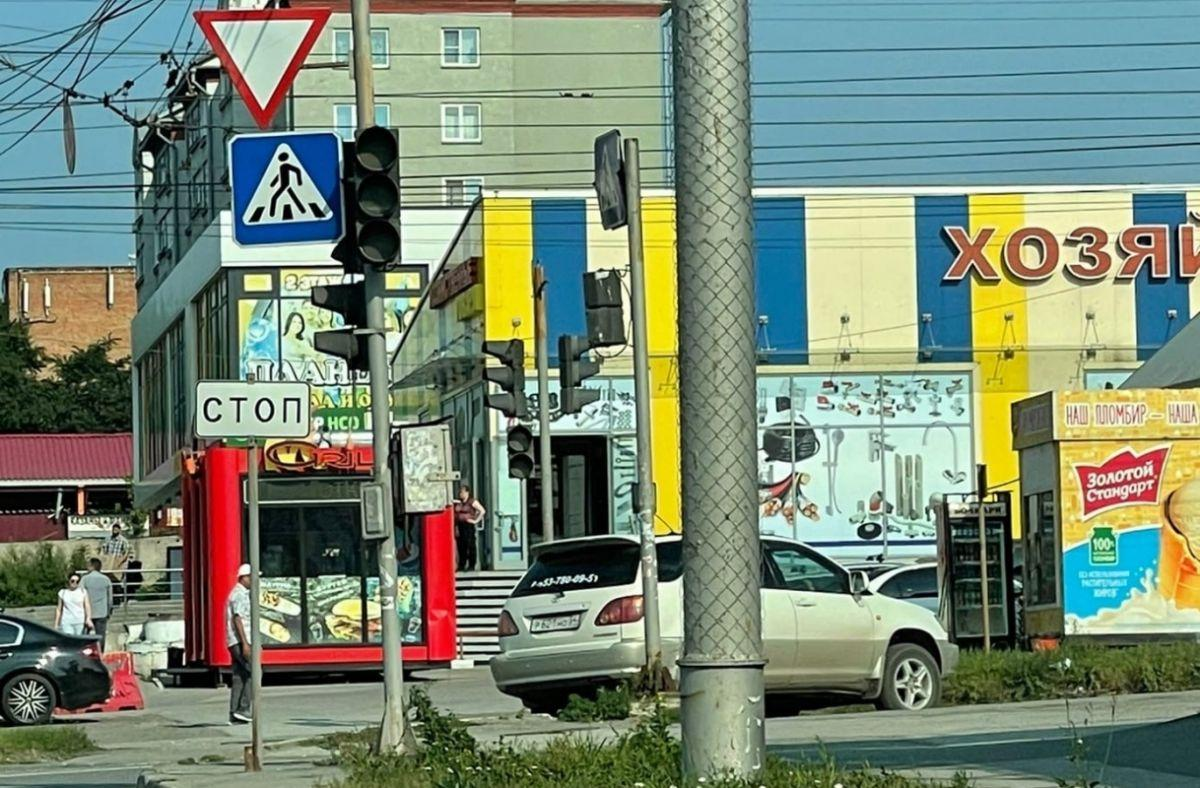off traffic light: (356, 125, 402, 265), (311, 282, 367, 371), (482, 340, 526, 419), (559, 336, 600, 414), (507, 423, 535, 478)
road_sign: (194, 7, 333, 131), (229, 132, 344, 244), (195, 380, 310, 437), (594, 129, 625, 229)
